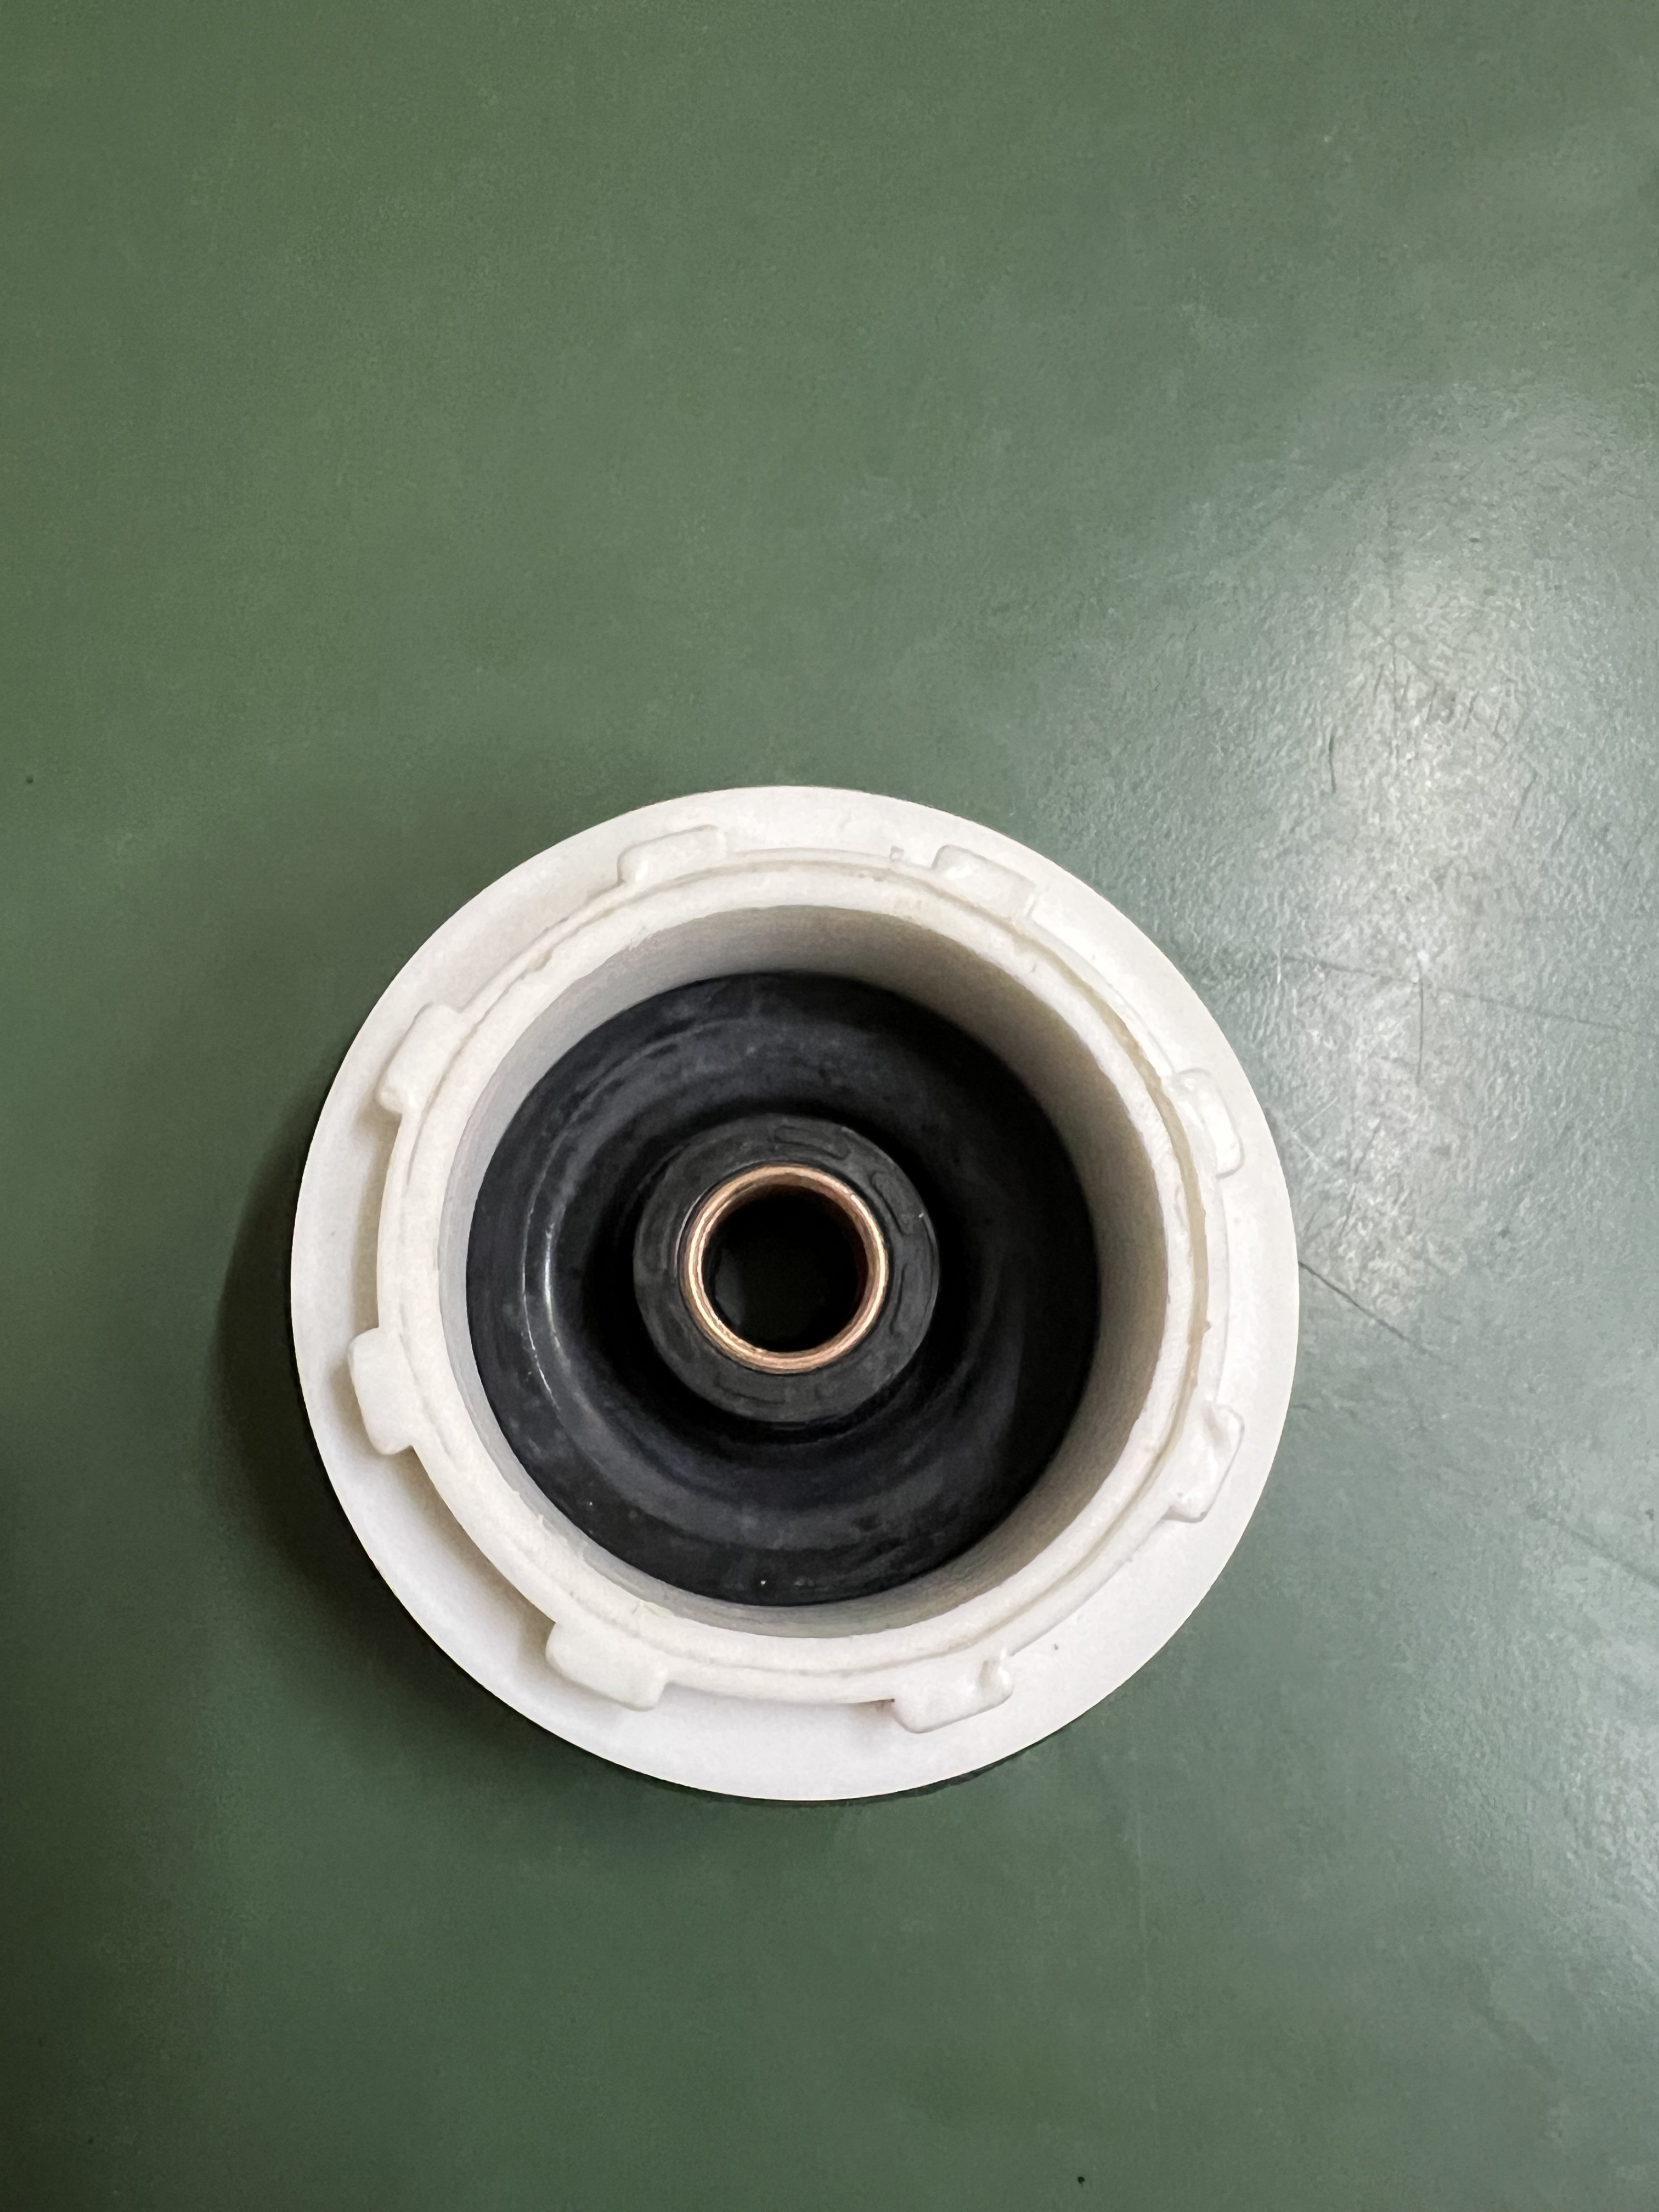lever: (251, 765, 1298, 1796)
